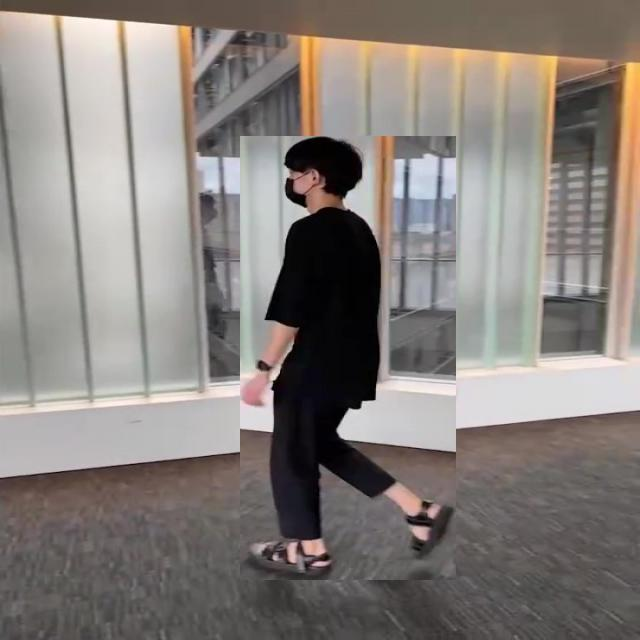direk: (240, 136, 456, 580)
